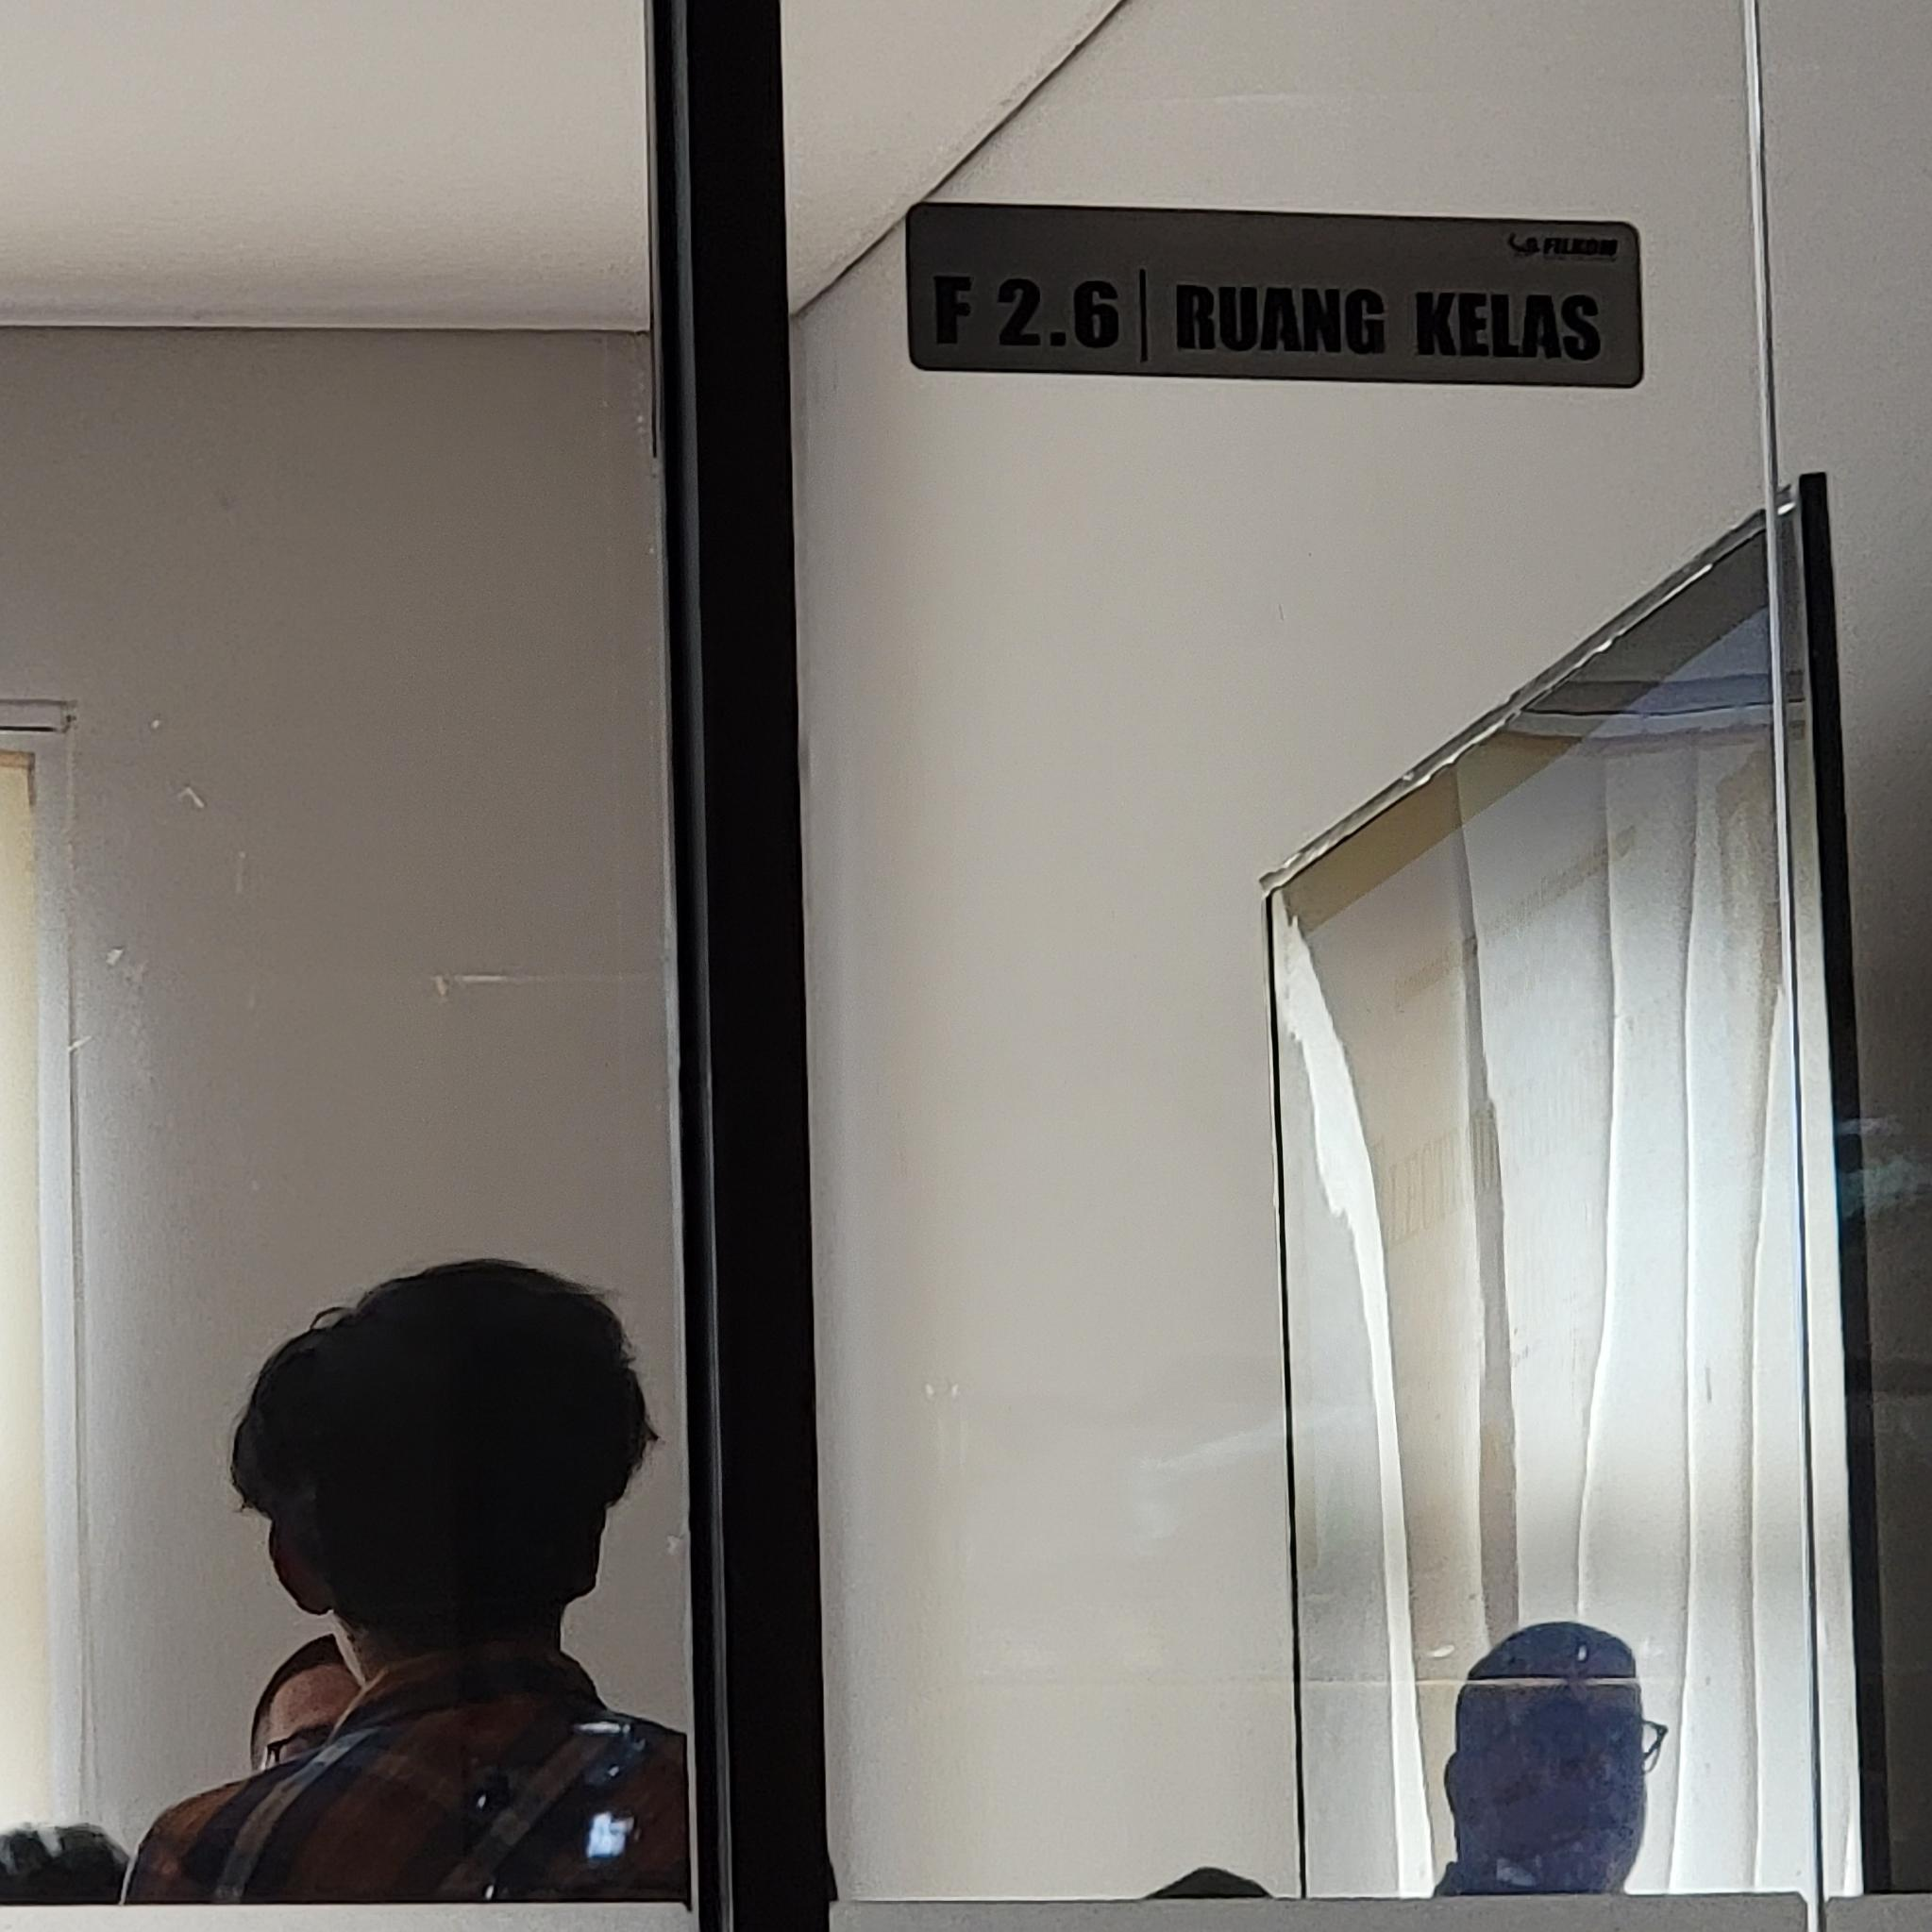plate: (904, 196, 1647, 389)
